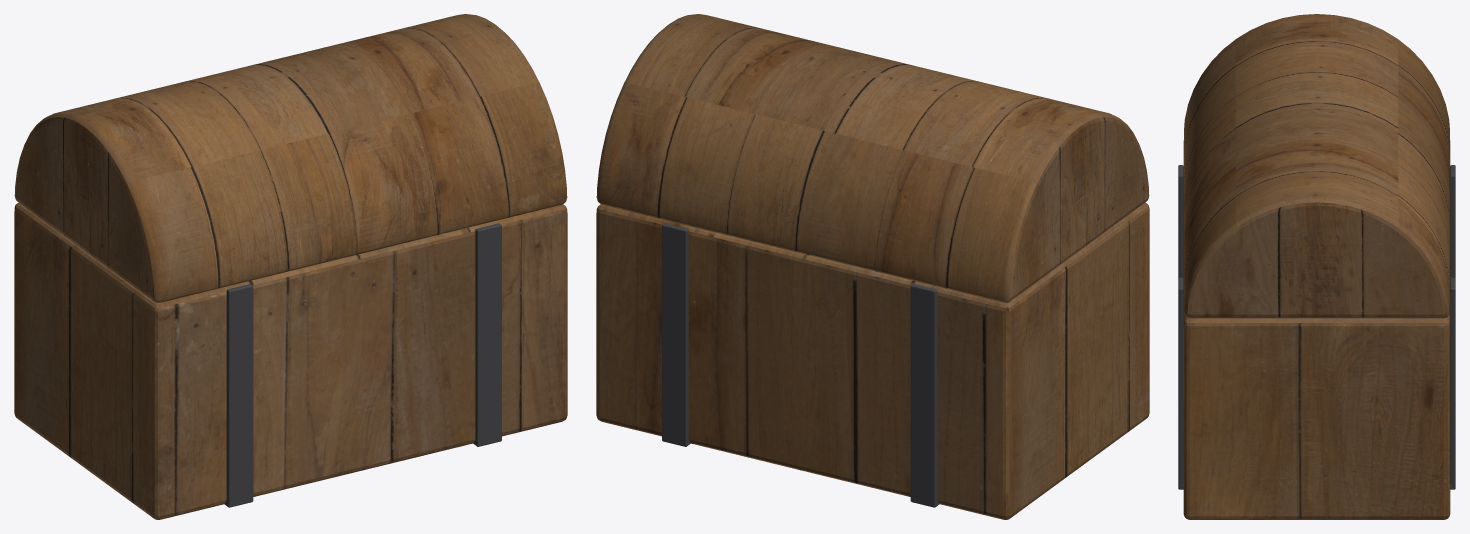
File: chest.glb
3 renders of one model, left to right at view 1: azimuth 30°, elevation 25°; view 2: azimuth 150°, elevation 25°; view 3: azimuth 270°, elevation 25°, orthographic. The views are drawn at different scales.
Visible parts, largest first — view 1: Chest_Body, Chest_Lid, Chest_Band; view 2: Chest_Body, Chest_Lid, Chest_Band; view 3: Chest_Lid, Chest_Body, Chest_Band.
Boxes of the visible parts, x1,y1,x2,y2 form: Chest_Body: [14, 202, 567, 519]; Chest_Lid: [14, 14, 567, 302]; Chest_Band: [224, 223, 501, 507]; Chest_Body: [596, 202, 1149, 519]; Chest_Lid: [596, 14, 1149, 302]; Chest_Band: [662, 223, 939, 507]; Chest_Lid: [1184, 14, 1449, 318]; Chest_Body: [1183, 140, 1450, 519]; Chest_Band: [1178, 165, 1455, 489].
Size of the model in its own units: 1 by 0.8 by 0.624.
3 materials, 2 textured.
